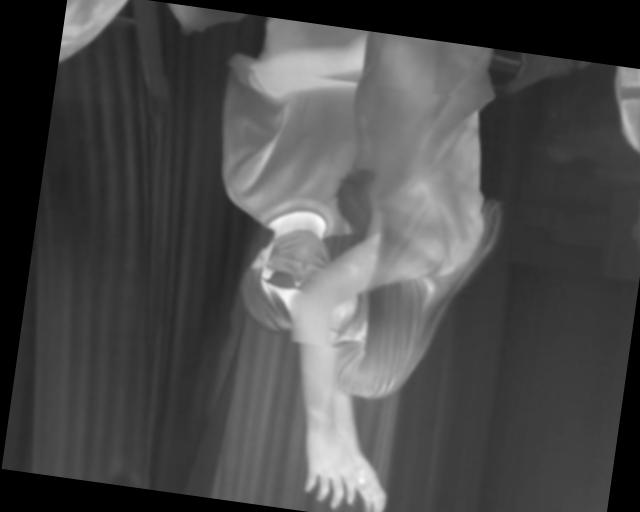face: (240, 224, 325, 341)
